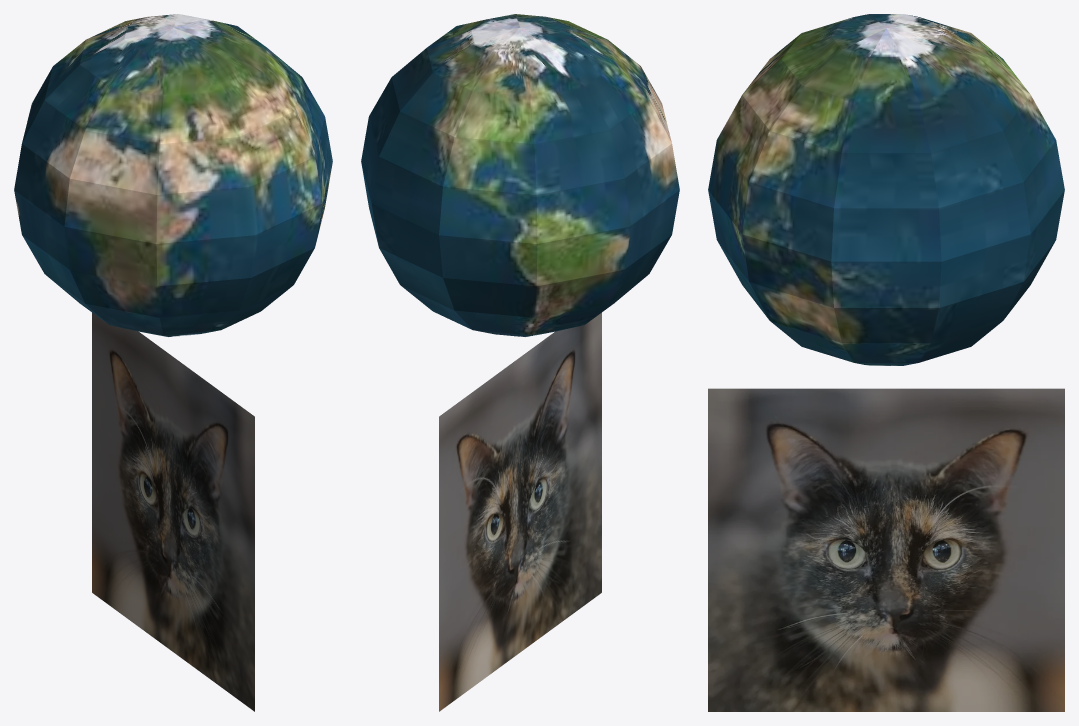
File: testmap.obj
The picture shows the model from 3 angles, left to right: view 1: azimuth 30°, elevation 25°; view 2: azimuth 150°, elevation 25°; view 3: azimuth 270°, elevation 25°; orthographic projection. The views are drawn at different scales.
Visible parts, largest first — view 1: Sphere_Sphere.001, Plane_Plane.002; view 2: Sphere_Sphere.001, Plane_Plane.002; view 3: Plane_Plane.002, Sphere_Sphere.001.
Boxes of the visible parts, <box> form: Sphere_Sphere.001: <box>14,14,332,337</box>; Plane_Plane.002: <box>92,312,254,711</box>; Sphere_Sphere.001: <box>361,14,679,337</box>; Plane_Plane.002: <box>439,312,601,711</box>; Plane_Plane.002: <box>708,388,1064,711</box>; Sphere_Sphere.001: <box>708,14,1064,365</box>.
Size of what is drawn, in the model's own units: 1.9 by 4.23 by 2.
2 materials, 2 textured.
